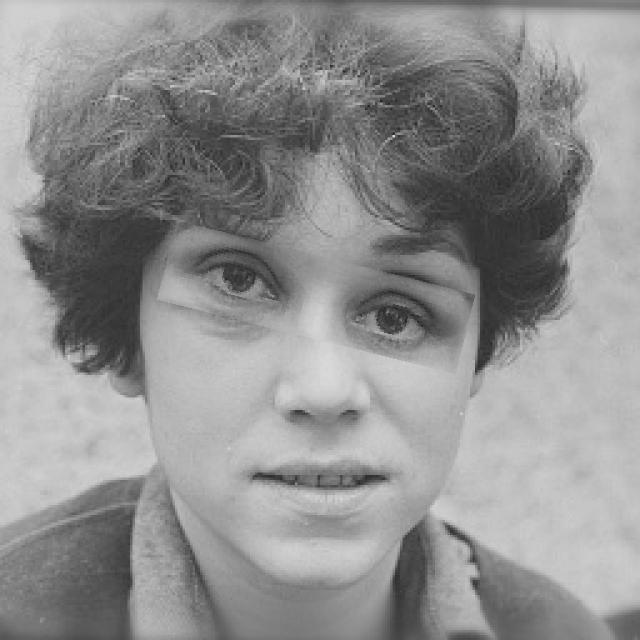no-glasses: (160, 238, 472, 356)
